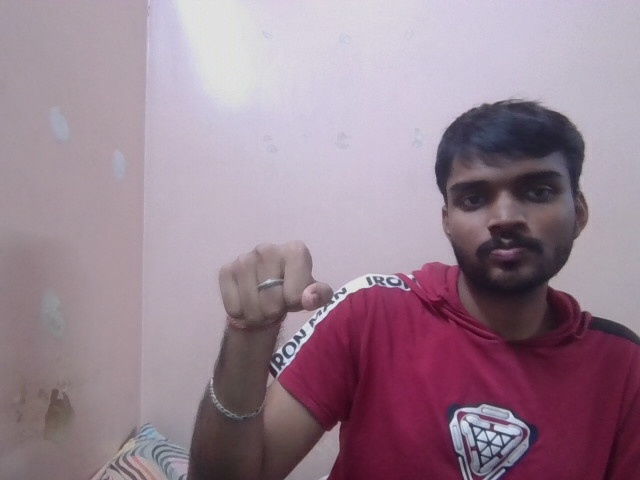Yes: (211, 239, 336, 327)
